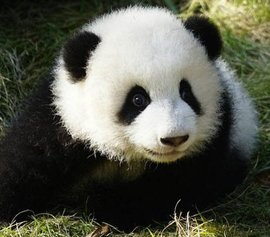panda: (5, 3, 265, 227)
